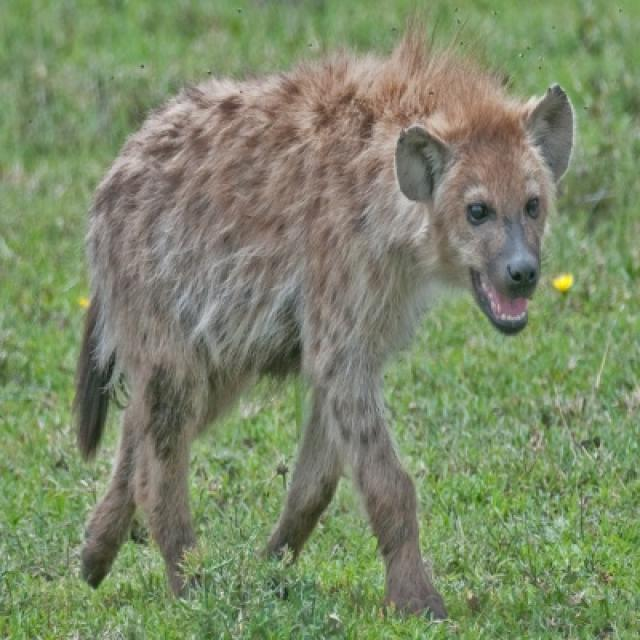hyena: (72, 34, 576, 624)
